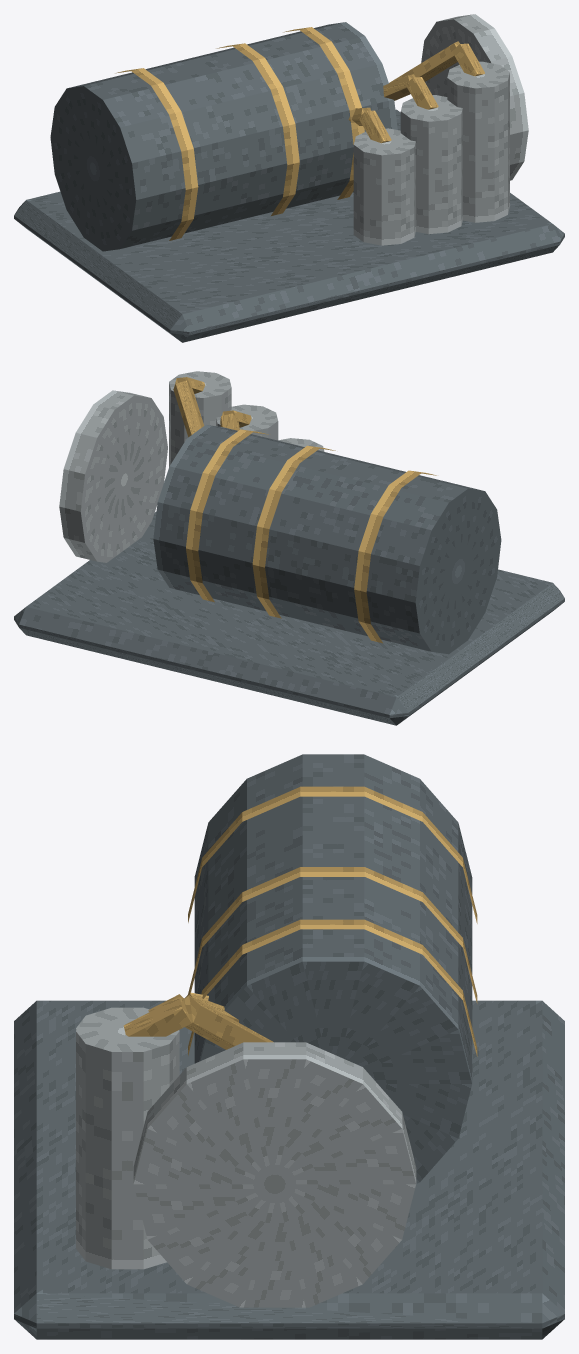
Rendered from steam_triple_small.glb.
The picture shows the model from 3 angles, top to bottom: view 1: azimuth 30°, elevation 25°; view 2: azimuth 150°, elevation 25°; view 3: azimuth 270°, elevation 25°; orthographic projection. The views are drawn at different scales.
Parts seen in each view (by area): view 1: block_cylindrical boiler, block_engine bed, block_triple-expansion cylinder (×3), block_boiler band (×3), block_flywheel, block_steam pipe 0 (×3), block_steam pipe 1 (×2); view 2: block_cylindrical boiler, block_engine bed, block_flywheel, block_boiler band (×3), block_triple-expansion cylinder (×2), block_steam pipe 1; view 3: block_engine bed, block_cylindrical boiler, block_flywheel, block_triple-expansion cylinder, block_boiler band (×3), block_steam pipe 1, block_steam pipe 0.
Part boxes in pixels (<box>): block_cylindrical boiler: <box>50,22,397,251</box>; block_engine bed: <box>14,109,564,342</box>; block_triple-expansion cylinder (×3): <box>353,61,509,245</box>; block_boiler band (×3): <box>115,27,364,240</box>; block_flywheel: <box>421,14,528,180</box>; block_steam pipe 0 (×3): <box>358,43,484,143</box>; block_steam pipe 1 (×2): <box>383,41,459,100</box>; block_cylindrical boiler: <box>153,425,501,654</box>; block_engine bed: <box>14,511,564,725</box>; block_flywheel: <box>59,390,167,562</box>; block_boiler band (×3): <box>186,429,436,643</box>; block_triple-expansion cylinder (×2): <box>169,371,278,466</box>; block_steam pipe 1: <box>173,380,204,437</box>; block_engine bed: <box>14,1000,564,1339</box>; block_cylindrical boiler: <box>194,754,472,1183</box>; block_flywheel: <box>133,1042,416,1307</box>; block_triple-expansion cylinder: <box>76,1010,179,1269</box>; block_boiler band (×3): <box>188,786,477,1056</box>; block_steam pipe 1: <box>183,995,273,1049</box>; block_steam pipe 0: <box>123,997,191,1036</box>.
Size of the model in its own units: 0.6393 by 0.2912 by 0.4777.
1 material, 1 textured.
